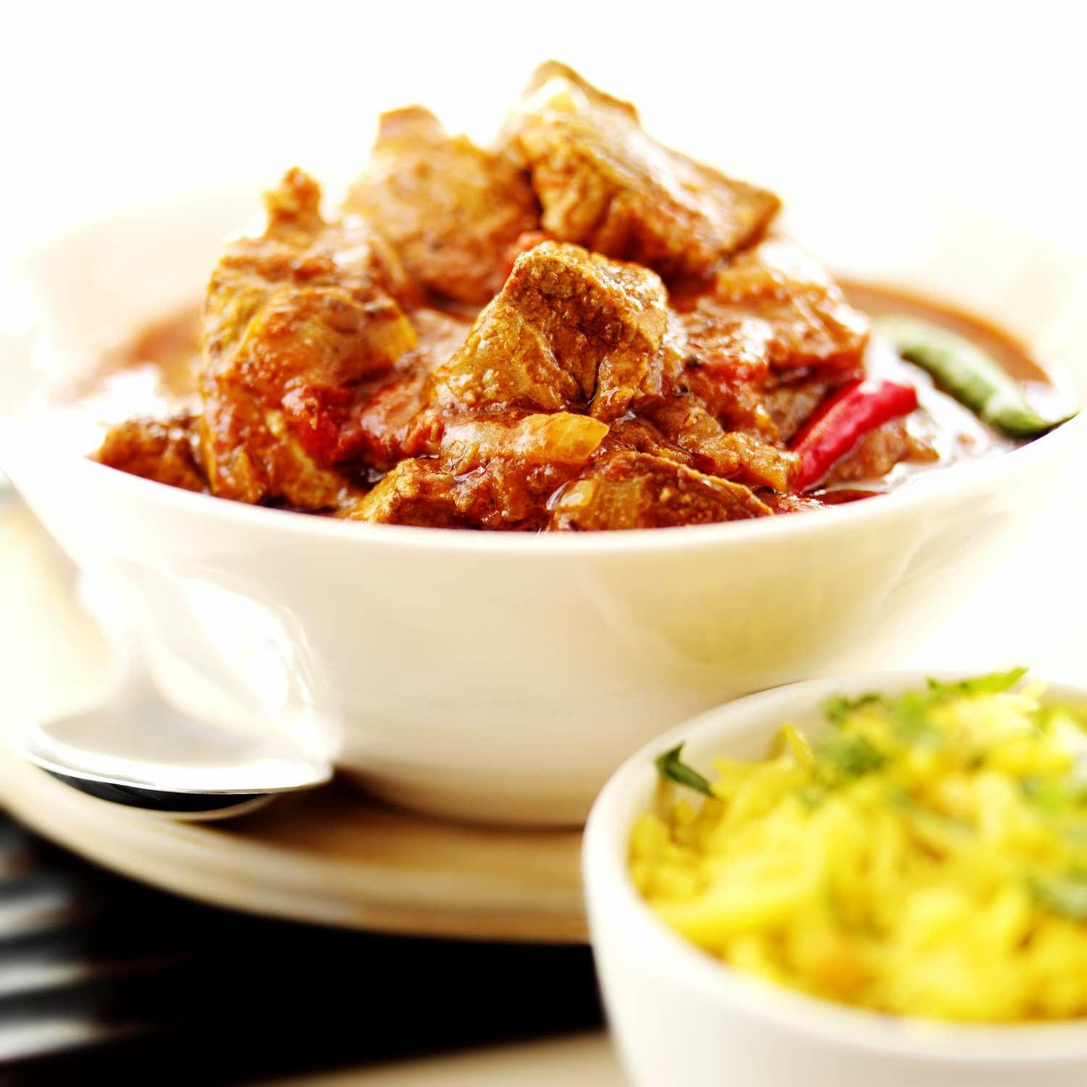MuttonCurry: (93, 57, 943, 519)
